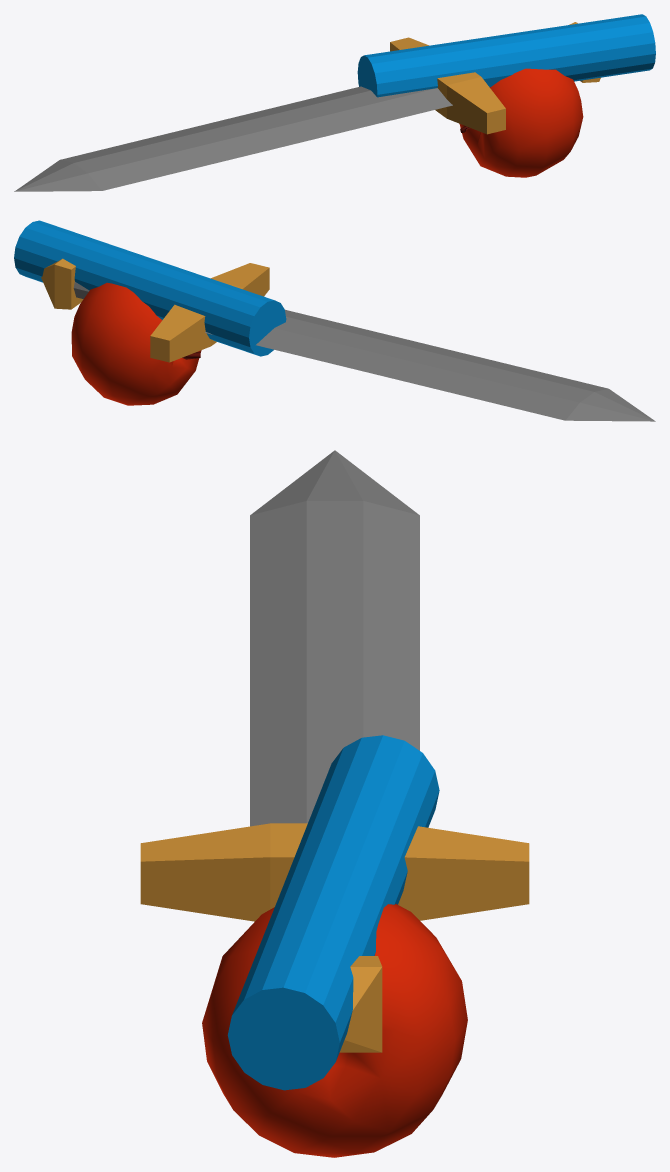
3 renders of one model, top to bottom at view 1: azimuth 30°, elevation 25°; view 2: azimuth 150°, elevation 25°; view 3: azimuth 270°, elevation 25°, orthographic. The views are drawn at different scales.
Parts seen in each view (by area): view 1: sword, stick, big_apple; view 2: sword, stick, big_apple; view 3: sword, stick, big_apple.
Part boxes in pixels (<box>): sword: <box>14,22,600,191</box>; stick: <box>357,14,655,97</box>; big_apple: <box>459,68,583,177</box>; sword: <box>41,258,655,421</box>; stick: <box>14,220,286,356</box>; big_apple: <box>71,282,201,405</box>; sword: <box>140,450,529,1052</box>; stick: <box>227,735,439,1090</box>; big_apple: <box>202,904,467,1157</box>.
Bounding box in the file's own units: 51.11 × 10.74 × 13.8.
